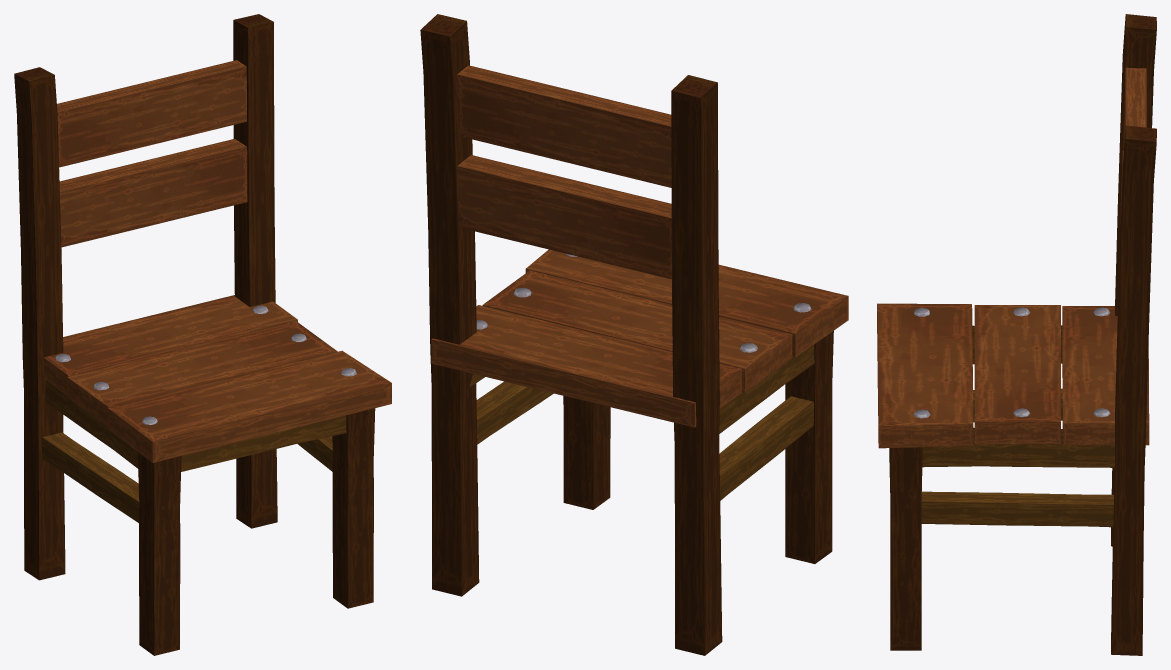
The model's file is Chair_1.gltf.
3 renders of one model, left to right at view 1: azimuth 30°, elevation 25°; view 2: azimuth 150°, elevation 25°; view 3: azimuth 270°, elevation 25°, orthographic. The views are drawn at different scales.
Parts seen in each view (by area): view 1: Chair_1; view 2: Chair_1; view 3: Chair_1.
Boxes of the visible parts, <box> form: Chair_1: <box>14,14,391,655</box>; Chair_1: <box>420,14,848,655</box>; Chair_1: <box>877,14,1156,655</box>.
Bounding box in the file's own units: 0.5805 × 1.12 × 0.5489.
Materials: 2 (2 with a texture image).
